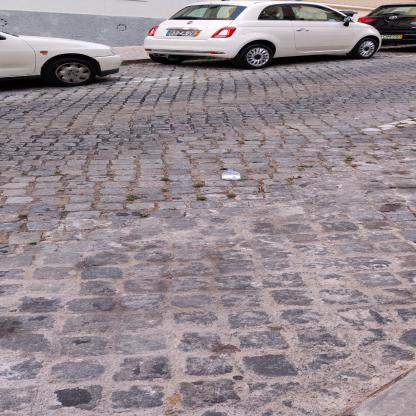plastik: (223, 170, 243, 181), (178, 142, 184, 144)
